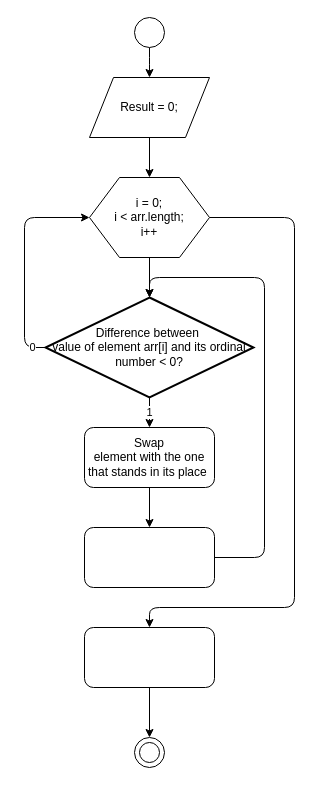
Image size: 320x785. Some labels were removed from this diagram. The shapes that lost their labels are listed below. From the top down, each one's centre as x and y in pixels, then its label:
[149,557]: Result ++
[149,657]: Return result
